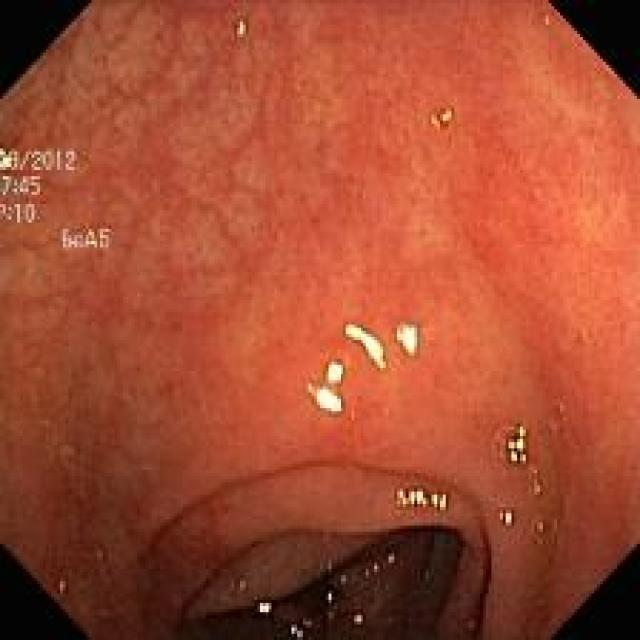ulcerative-colitis-grade-1: (0, 3, 640, 640)
